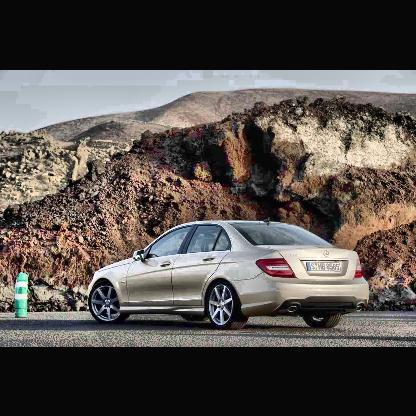Mercedes-Benz C-Class Sedan 2012: (84, 215, 372, 332)
